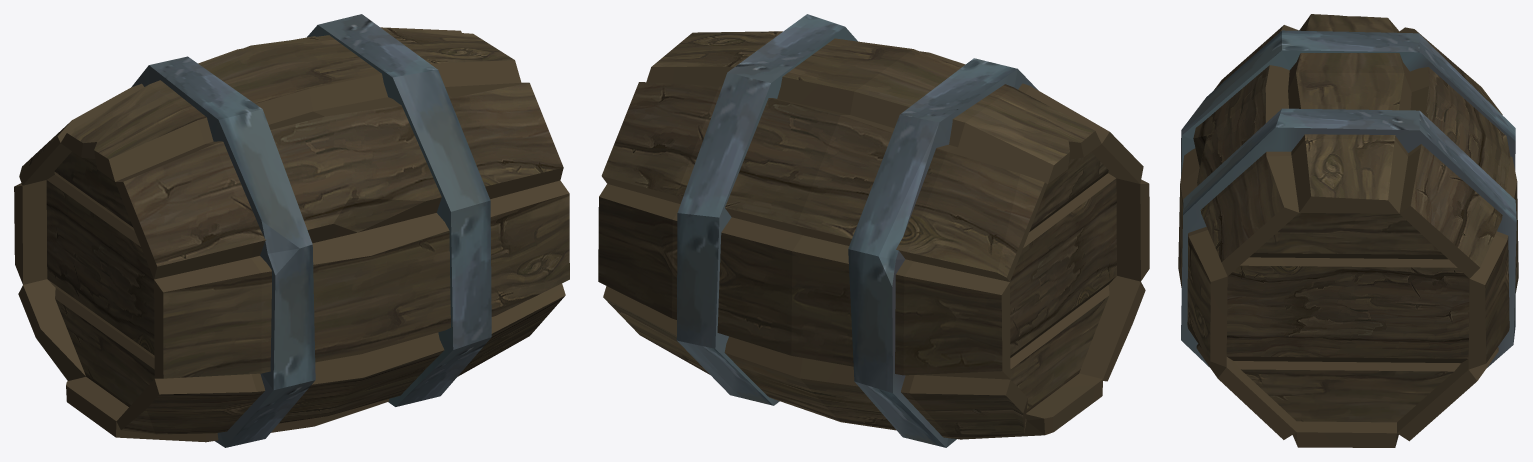
File: Prop_Barrel.fbx
The picture shows the model from 3 angles, left to right: view 1: azimuth 30°, elevation 25°; view 2: azimuth 150°, elevation 25°; view 3: azimuth 270°, elevation 25°; orthographic projection. The views are drawn at different scales.
Visible parts, largest first — view 1: SM_Prop_Barrel_Dispenser_Small_01; view 2: SM_Prop_Barrel_Dispenser_Small_01; view 3: SM_Prop_Barrel_Dispenser_Small_01.
Part boxes in pixels (x1,y1,x2,y2): SM_Prop_Barrel_Dispenser_Small_01: [14, 14, 569, 447]; SM_Prop_Barrel_Dispenser_Small_01: [598, 14, 1149, 447]; SM_Prop_Barrel_Dispenser_Small_01: [1178, 14, 1518, 447].
Size of the model in its own units: 90.98 by 71.76 by 71.76.
